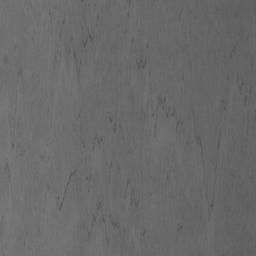Silk spot: (0, 0, 256, 256), (224, 29, 248, 64), (0, 199, 5, 256)
